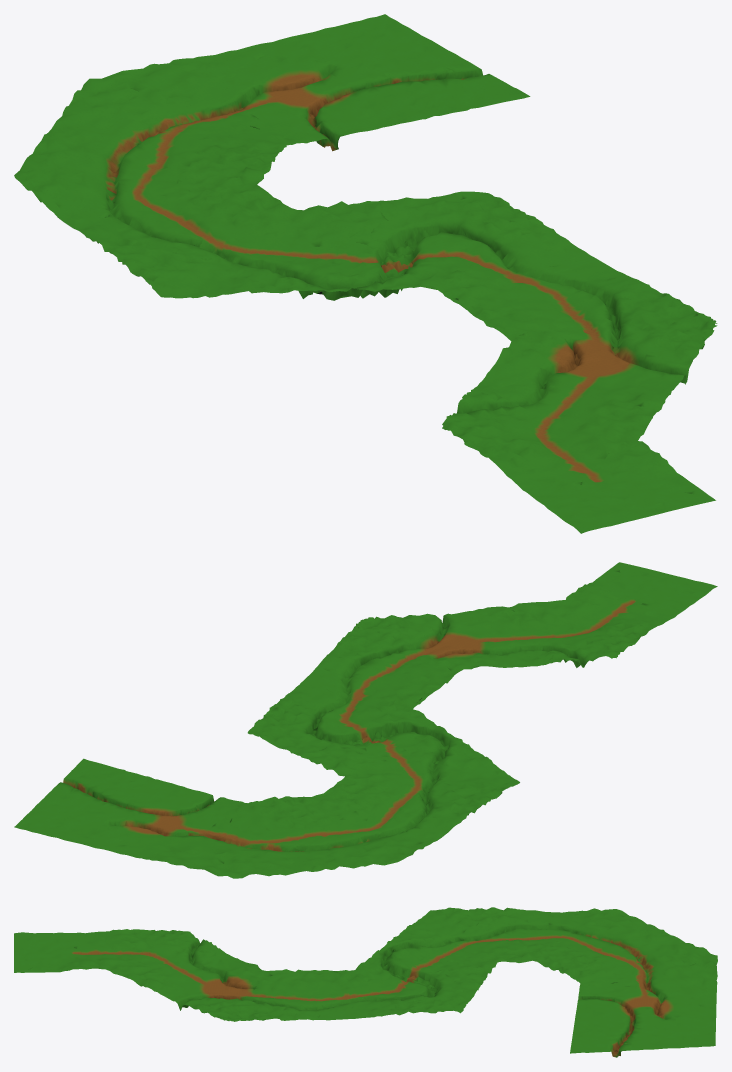
The model's file is Ground.glb.
3 renders of one model, top to bottom at view 1: azimuth 30°, elevation 25°; view 2: azimuth 150°, elevation 25°; view 3: azimuth 270°, elevation 25°, orthographic. The views are drawn at different scales.
Parts seen in each view (by area): view 1: Retopo_Plane.002; view 2: Retopo_Plane.002; view 3: Retopo_Plane.002.
Boxes of the visible parts, x1,y1,x2,y2 form: Retopo_Plane.002: (14,14,717,533); Retopo_Plane.002: (14,562,717,878); Retopo_Plane.002: (14,907,717,1057).
Size of the model in its own units: 117 by 6.36 by 244.
1 material, 1 textured.
